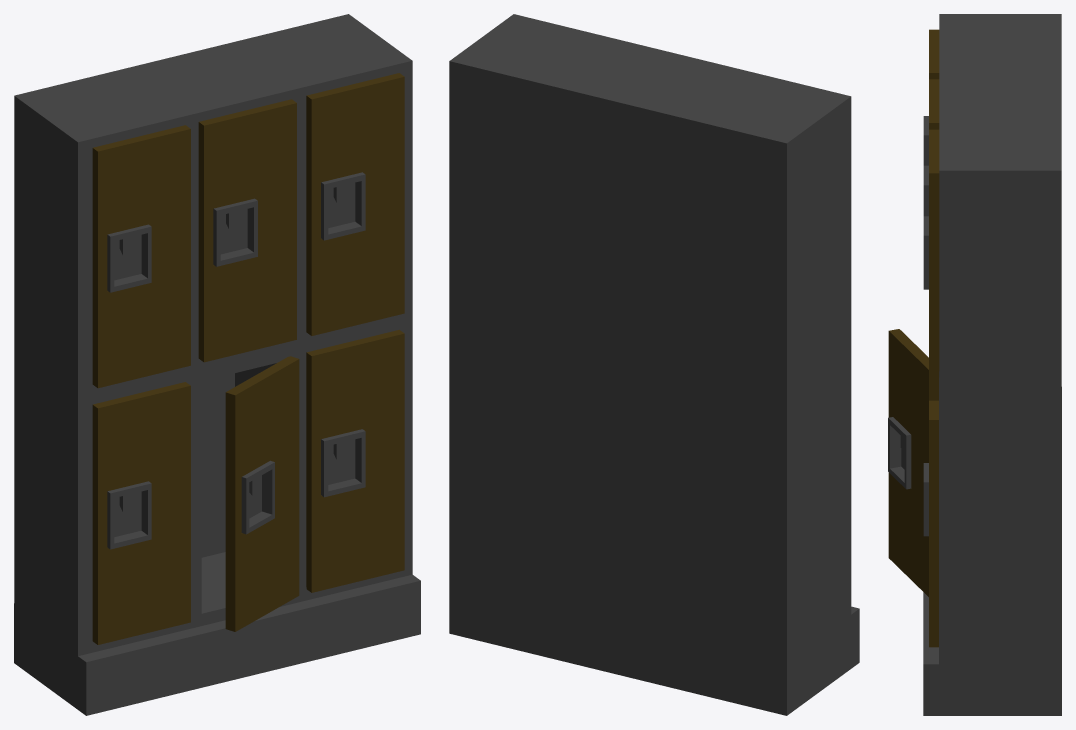
The model's file is DD_14_lockersOpenVar2_HENRY.fbx.
3 views of the same model, side by side, from view 1: azimuth 30°, elevation 25°; view 2: azimuth 150°, elevation 25°; view 3: azimuth 270°, elevation 25° (orthographic). The views are drawn at different scales.
Visible parts, largest first — view 1: lockerBody, door1, door4, door2, door3, door6, door5, lock4, lock6, lock2, lock1, lock3 (+1 smaller); view 2: lockerBody; view 3: lockerBody, door5, door3, door6, lock5, door2, door1, lock3, lock6, lock2, lock1.
Boxes of the visible parts, left/top/right/bottom form: lockerBody: left=14, top=14, right=420, bottom=715; door1: left=92, top=125, right=190, bottom=388; door4: left=92, top=382, right=190, bottom=644; door2: left=198, top=99, right=296, bottom=362; door3: left=306, top=73, right=404, bottom=335; door6: left=306, top=329, right=404, bottom=592; door5: left=225, top=356, right=299, bottom=631; lock4: left=107, top=481, right=151, bottom=549; lock6: left=321, top=429, right=365, bottom=497; lock2: left=213, top=198, right=257, bottom=266; lock1: left=107, top=224, right=151, bottom=292; lock3: left=321, top=172, right=365, bottom=240; lockerBody: left=449, top=14, right=859, bottom=715; lockerBody: left=923, top=14, right=1061, bottom=715; door5: left=888, top=329, right=928, bottom=596; door3: left=929, top=129, right=939, bottom=400; door6: left=929, top=400, right=938, bottom=647; lock5: left=888, top=417, right=911, bottom=489; door2: left=929, top=79, right=939, bottom=129; door1: left=929, top=29, right=939, bottom=79; lock3: left=923, top=216, right=928, bottom=289; lock6: left=923, top=463, right=928, bottom=536; lock2: left=923, top=165, right=928, bottom=216; lock1: left=923, top=116, right=928, bottom=165.
Bounding box in the file's own units: 9.89 × 16.03 × 4.63.
